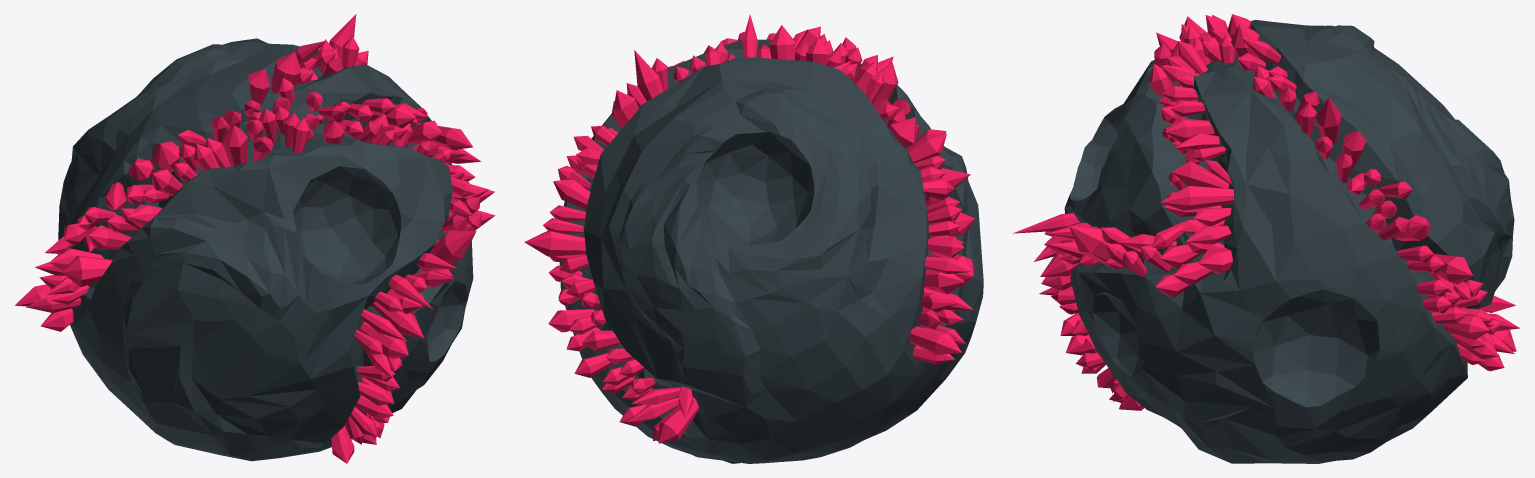
Rendered from PlanetCrystal-transformed.glb.
3 renders of one model, left to right at view 1: azimuth 30°, elevation 25°; view 2: azimuth 150°, elevation 25°; view 3: azimuth 270°, elevation 25°, orthographic. The views are drawn at different scales.
Parts seen in each view (by area): view 1: Planet_48; view 2: Planet_48; view 3: Planet_48.
Part boxes in pixels (x1,y1,x2,y2): Planet_48: [15, 14, 495, 463]; Planet_48: [524, 14, 983, 463]; Planet_48: [1012, 14, 1519, 463].
Bounding box in the file's own units: 21.98 × 21.45 × 23.08.
Materials: 1 (1 with a texture image).
